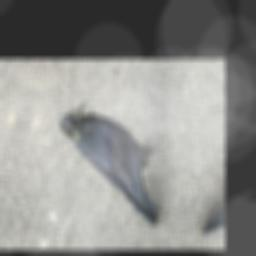Crow: (32, 98, 193, 228)
